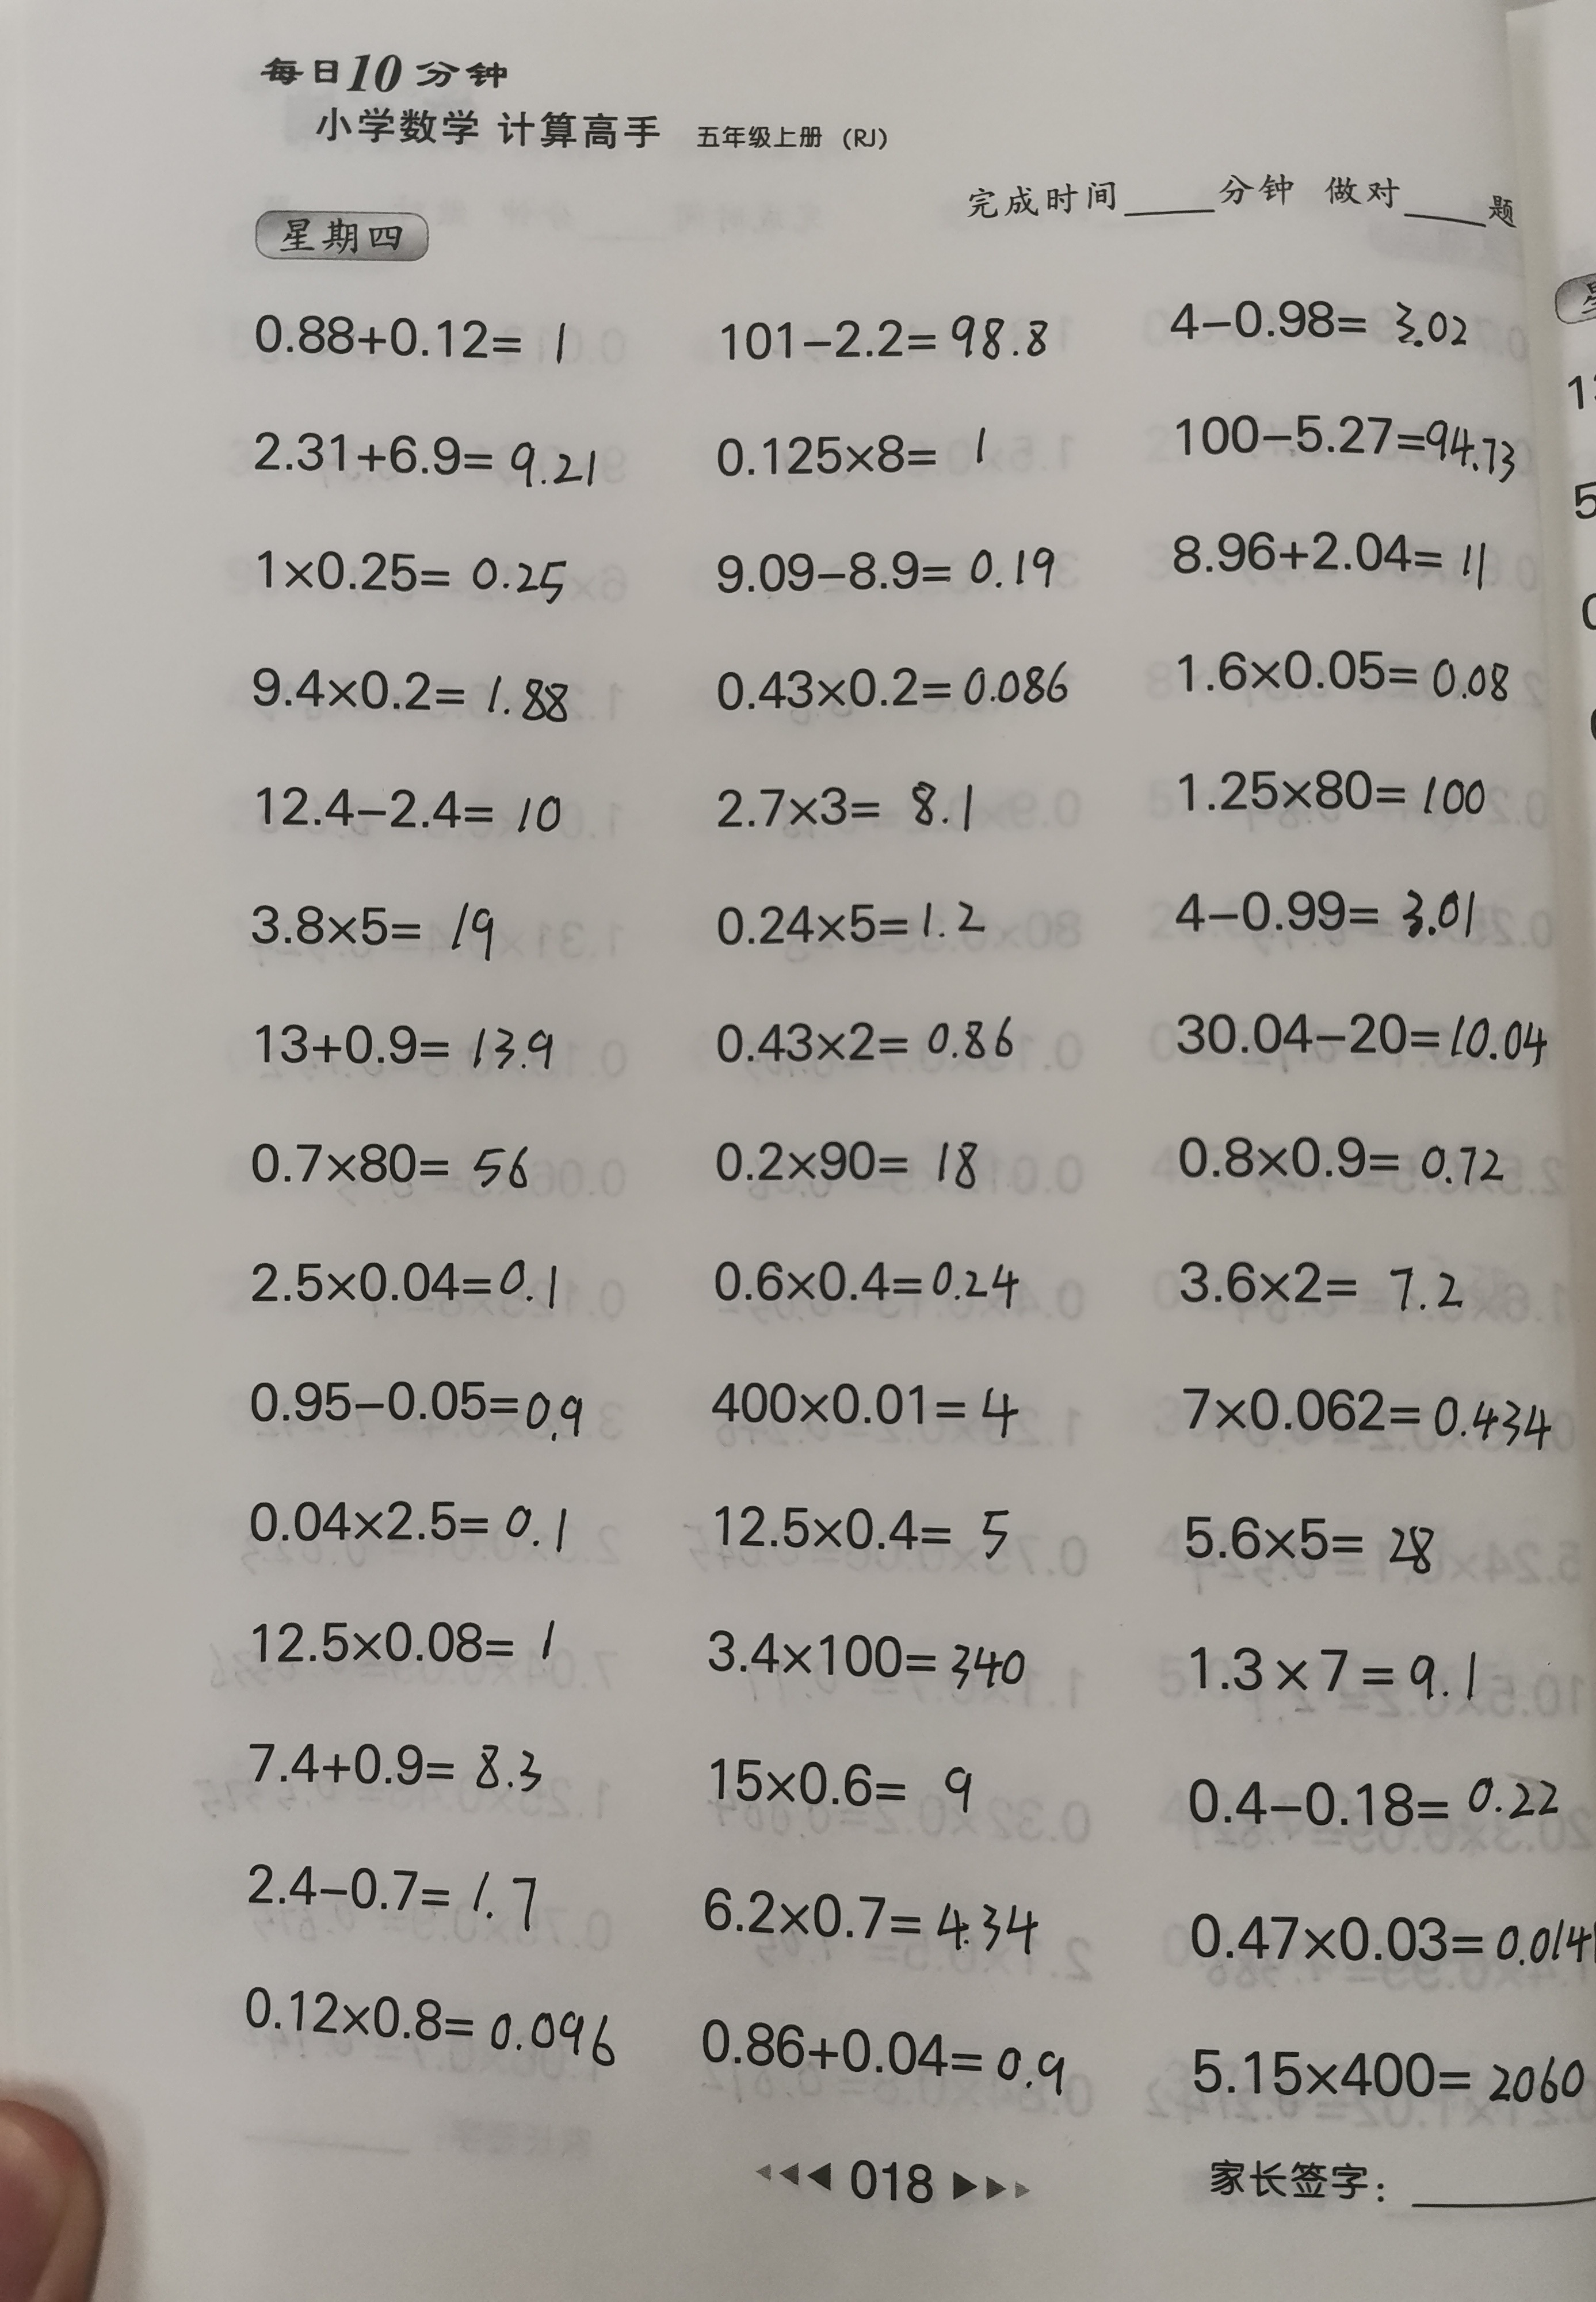equation: (690, 2003, 1087, 2110), (234, 1975, 633, 2080), (1157, 988, 1570, 1081), (1180, 2026, 1596, 2117), (1155, 1366, 1565, 1455), (224, 413, 628, 502), (238, 1357, 605, 1455), (690, 1866, 1058, 1964), (1169, 1889, 1596, 1973), (1159, 397, 1530, 493), (227, 523, 601, 614), (1155, 623, 1528, 714), (685, 1611, 1049, 1704), (1169, 1761, 1586, 1842), (1164, 1618, 1510, 1714), (234, 1847, 575, 1943), (224, 761, 584, 850), (229, 294, 596, 381), (696, 642, 1087, 721), (701, 532, 1084, 612), (220, 654, 593, 735), (1155, 864, 1503, 950), (1159, 1118, 1528, 1198), (232, 1595, 577, 1681), (690, 1237, 1047, 1319), (696, 1366, 1035, 1450), (1168, 1494, 1475, 1585), (1161, 518, 1507, 598), (232, 1721, 563, 1805), (703, 296, 1063, 373), (1159, 287, 1495, 367), (1162, 752, 1505, 831), (238, 1489, 601, 1562), (699, 761, 1003, 847), (696, 1740, 998, 1826), (696, 873, 1005, 955), (696, 1001, 1040, 1074), (694, 1489, 1026, 1564), (229, 889, 526, 973), (238, 1245, 575, 1319), (692, 408, 1017, 483), (1161, 1242, 1477, 1319), (699, 1121, 1002, 1202), (246, 1008, 575, 1078), (239, 1130, 552, 1195)
